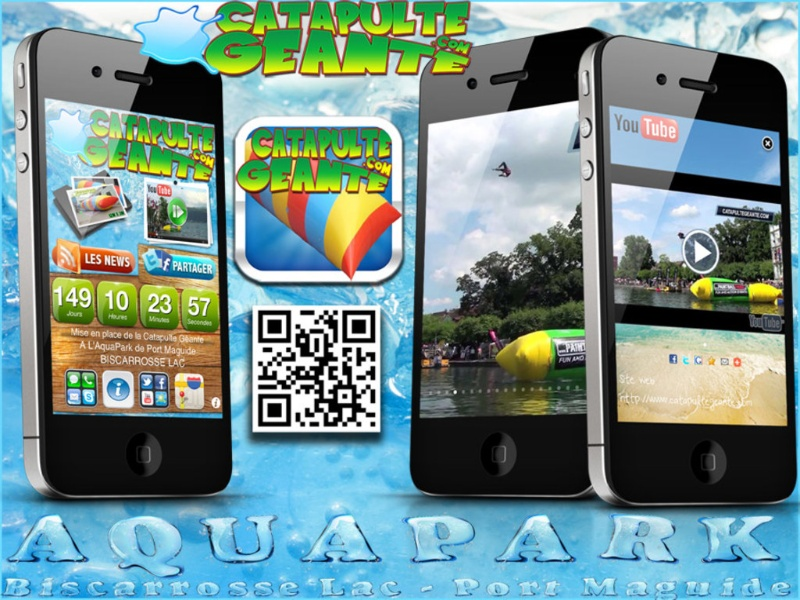cellphone: (17, 28, 239, 503), (578, 42, 797, 506)
